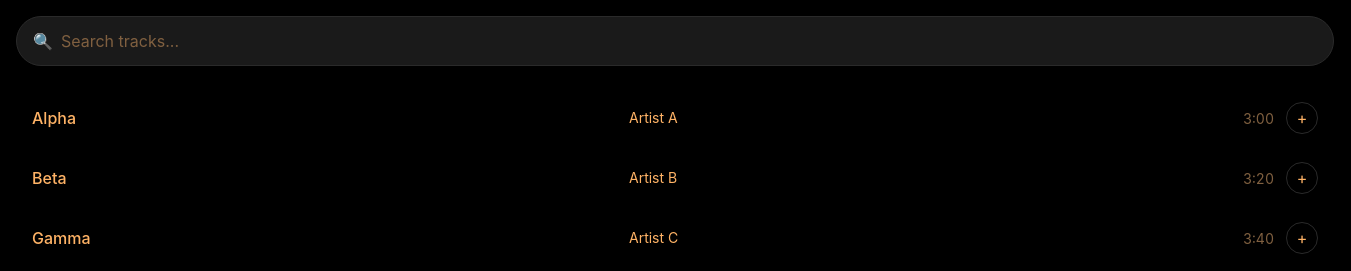
Test: MainContent — reactive search filter (Req 2.4) › shows only matching tracks as the user types in the search box
Type "Alpha" into the field named "Search tracks".
click(689, 41); type("Alpha")  # box x1=61 y1=29 x2=1317 y2=53
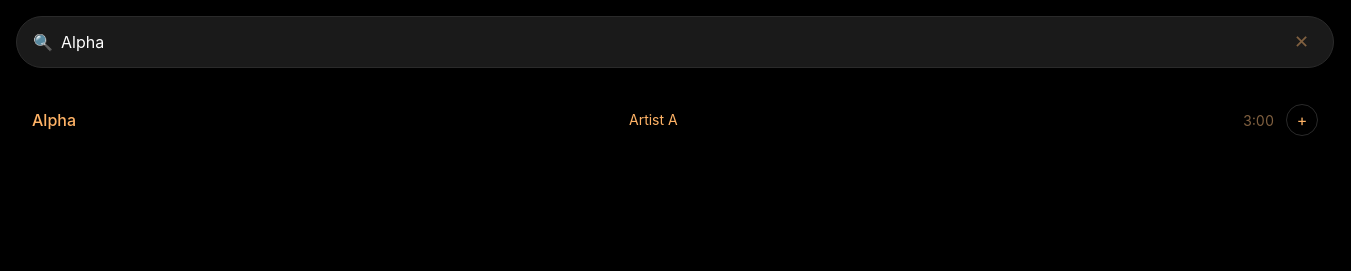
Expected: the text "Alpha" is shown, x1=32 y1=110 x2=76 y2=130
Now the button "Beta" is gone
Now the button "Gamma" is gone
